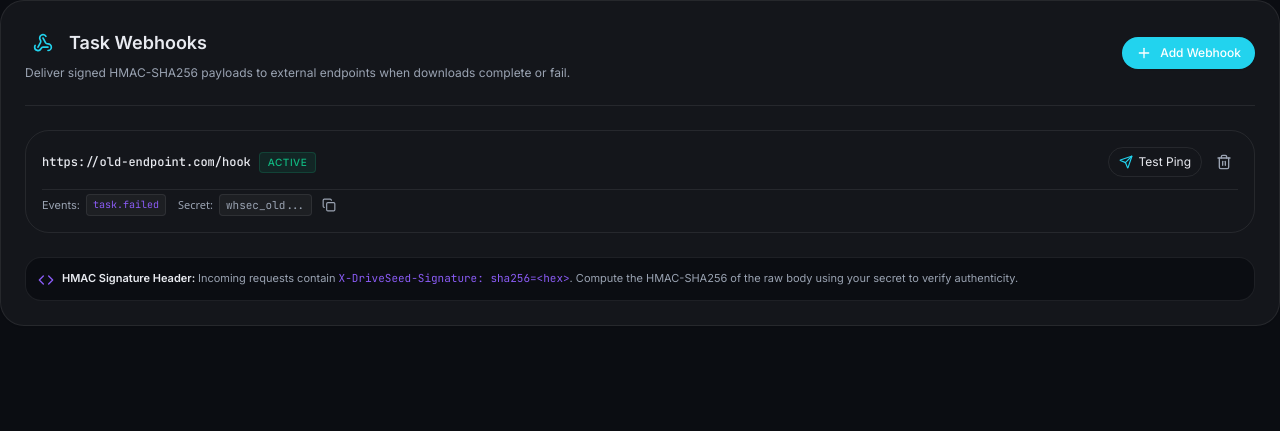
Test: WebhooksCard › deletes a webhook endpoint
Check: the text "https://old-endpoint.com/hook" is shown, box [42,154,251,170]
What coordinates should you click on to do the following:
click the button with test id "delete-webhook-wh-to-delete"
I would click on:
 (1224, 162)
Its box is [1210,148,1238,176].
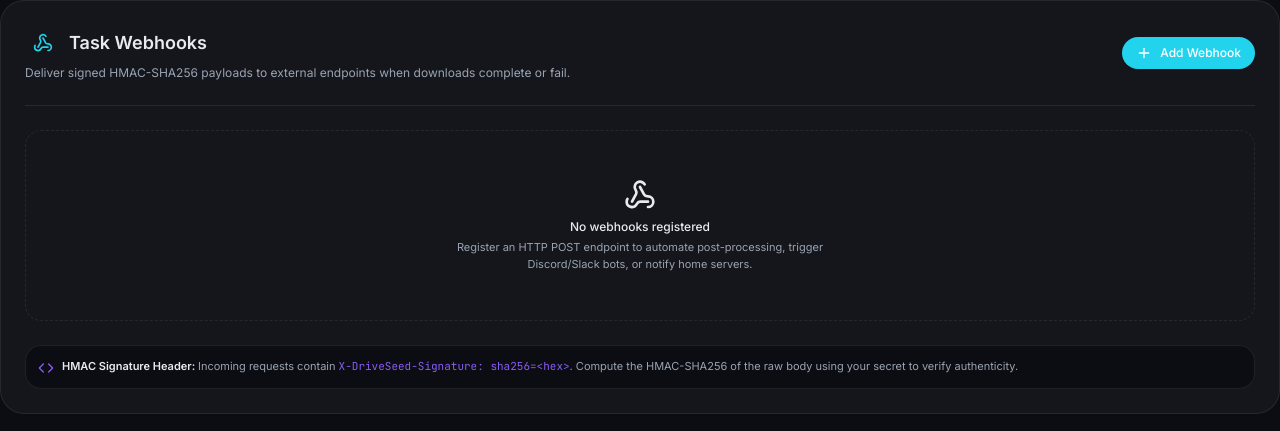
Check: the text "https://old-endpoint.com/hook" is gone
